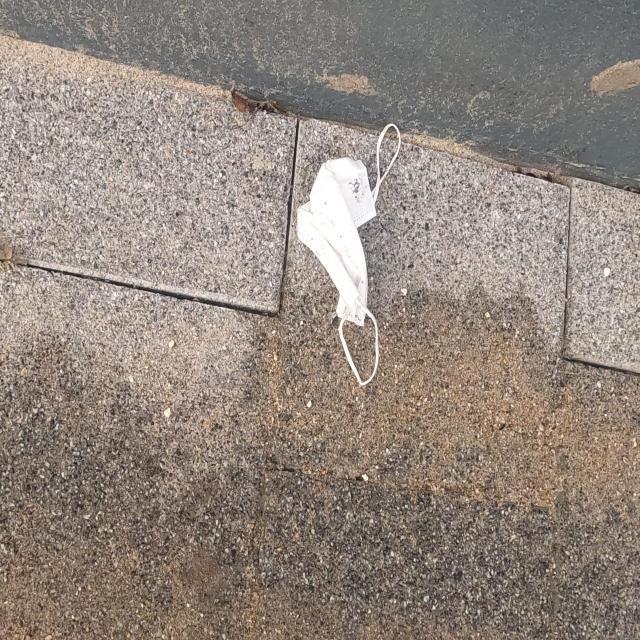Mask: (290, 136, 405, 384)
